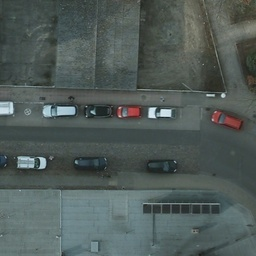car: (212, 110, 244, 132), (75, 156, 108, 173), (42, 103, 77, 119), (16, 155, 46, 172), (148, 159, 177, 176), (147, 105, 181, 119), (118, 104, 142, 121), (86, 104, 114, 118), (0, 152, 7, 167)
van: (0, 100, 13, 119)
